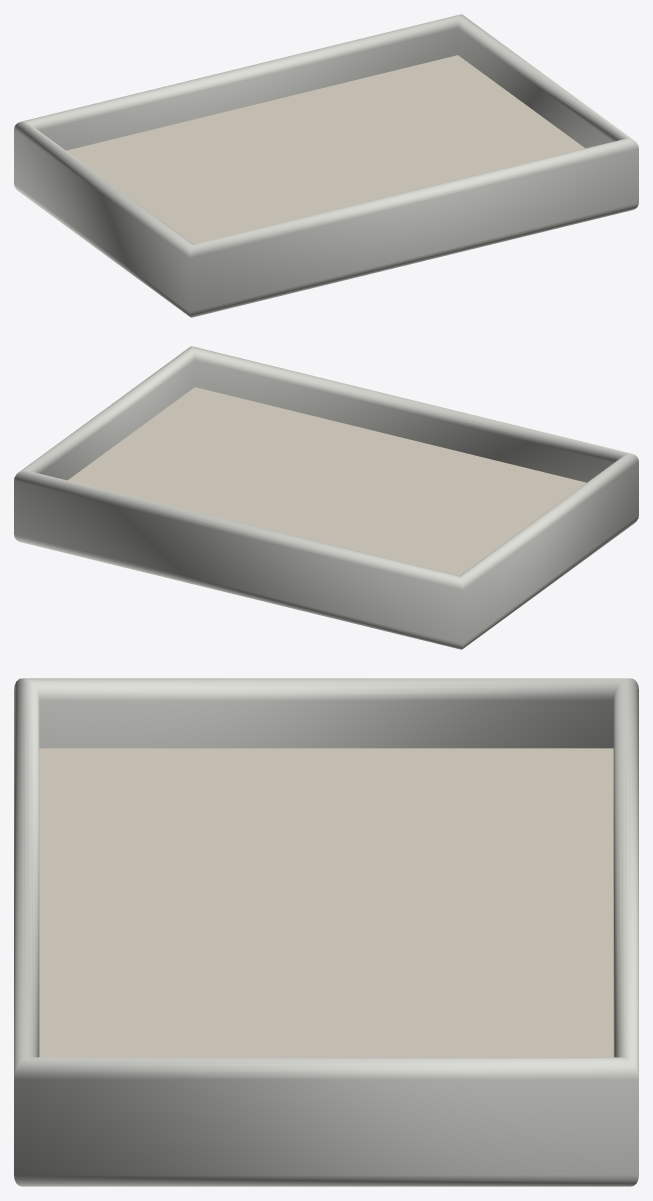
Rendered from a1ab8880-0aab-4629-ae80-63be5c907c65_model.glb.
3 views of the same model, one above another, from view 1: azimuth 30°, elevation 25°; view 2: azimuth 150°, elevation 25°; view 3: azimuth 270°, elevation 25° (orthographic). The views are drawn at different scales.
Visible parts, largest first — view 1: wall_0, Floor; view 2: wall_0, Floor; view 3: Floor, wall_0.
Part boxes in pixels (bbox=[...]): wall_0: bbox=[14, 14, 638, 317]; Floor: bbox=[66, 55, 585, 243]; wall_0: bbox=[14, 346, 638, 649]; Floor: bbox=[67, 387, 586, 575]; Floor: bbox=[39, 748, 613, 1057]; wall_0: bbox=[14, 678, 638, 1186].
Bounding box in the file's own units: 52.63 × 8.05 × 35.67.
